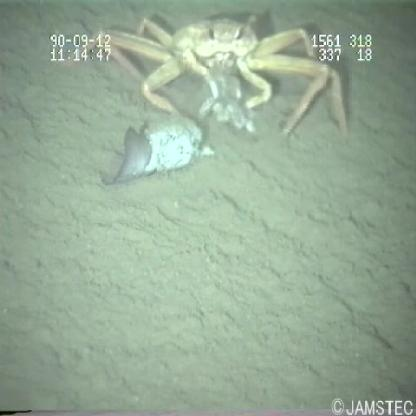Bio: (61, 10, 348, 185)
